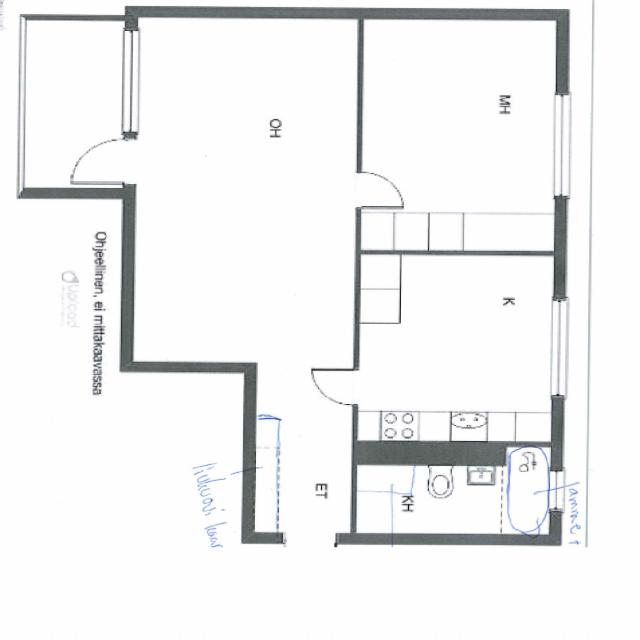door: (72, 139, 137, 184), (284, 534, 336, 588), (312, 368, 360, 404), (354, 172, 402, 208), (320, 501, 360, 530)
